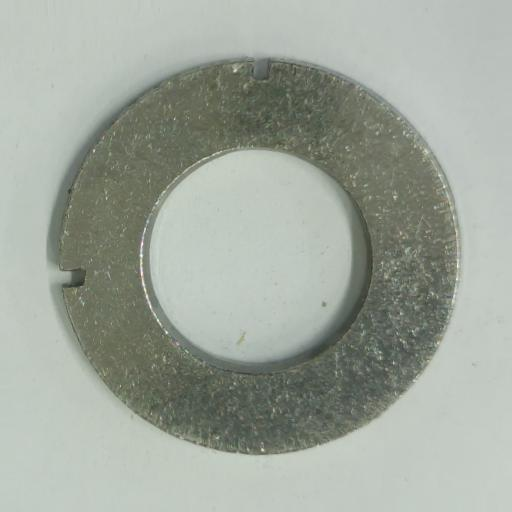burr: (59, 265, 88, 289), (250, 57, 273, 81)
